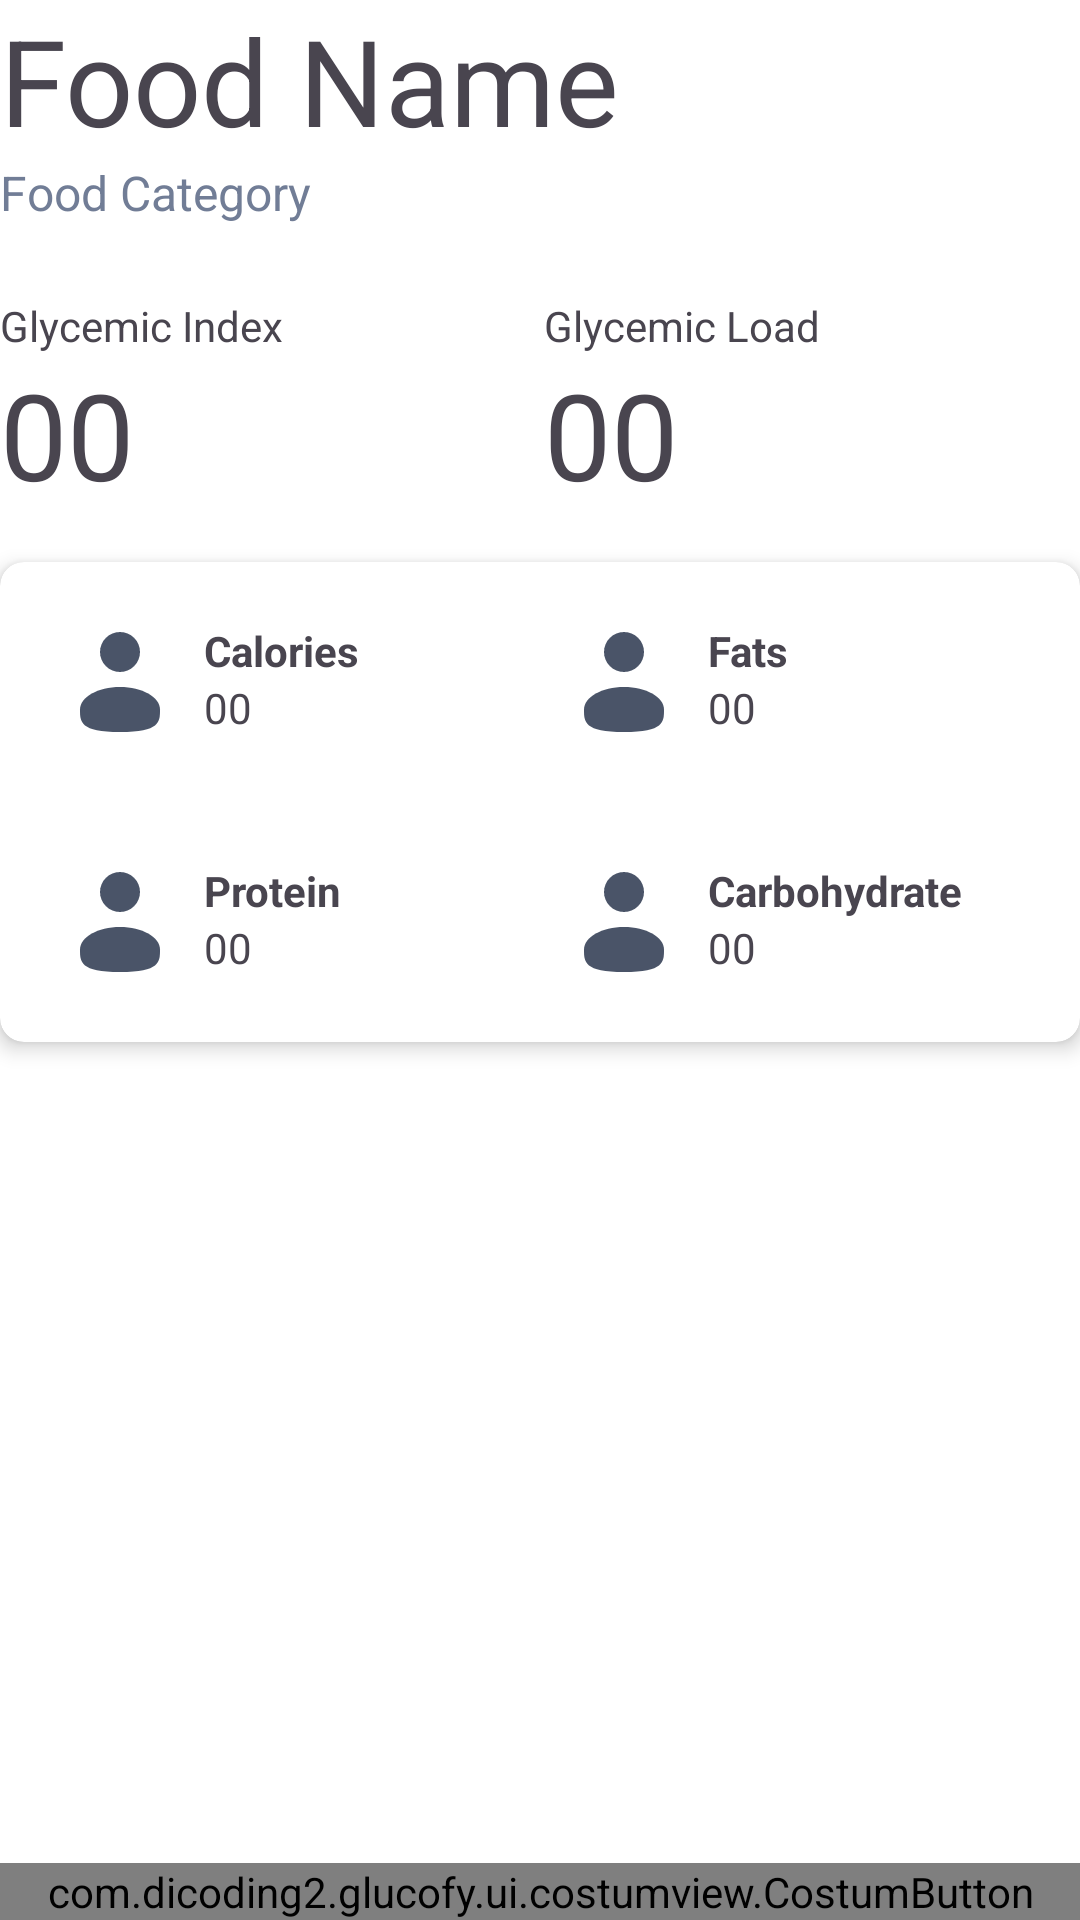

Icons on this 1080w x 1920h Android screen, each with its box as (left=x1, top=y1, right=x2, bottom=y2):
user: (left=80, top=632, right=160, bottom=732), (left=584, top=632, right=664, bottom=732), (left=80, top=872, right=160, bottom=972), (left=584, top=872, right=664, bottom=972)
